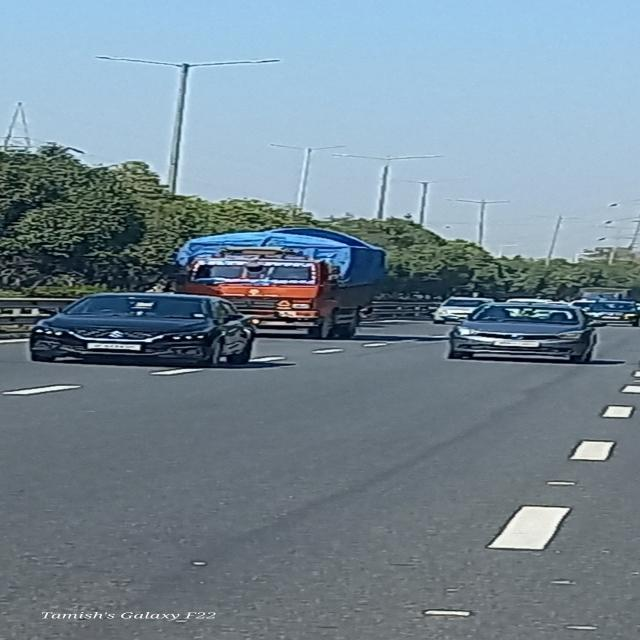covered: (165, 226, 374, 340)
